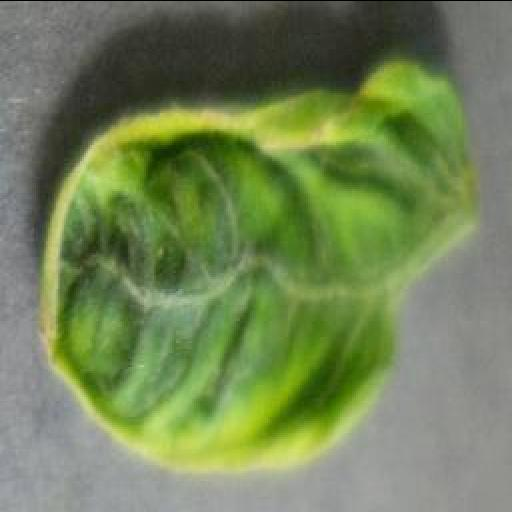disease_tomato: (34, 50, 478, 472)
